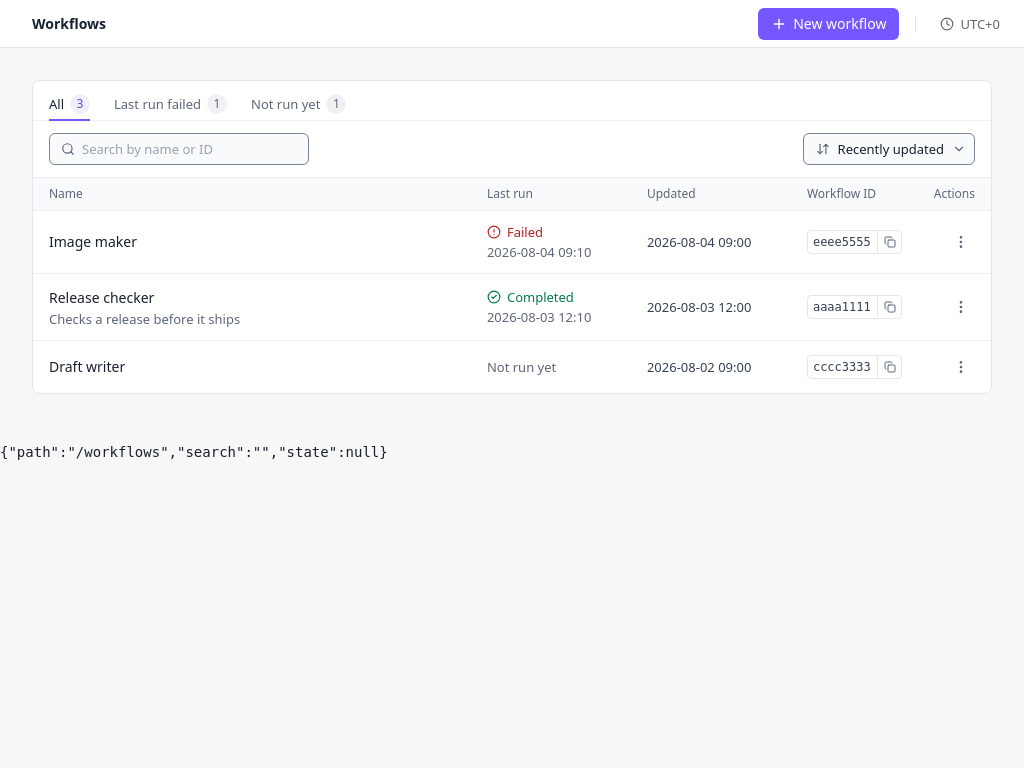
Test: WorkflowsPage row menu and Run dialog › says so when the workflow can’t be loaded for the run
Click the button named "Actions for Draft writer".
click(961, 366)  # box [947,352,975,380]
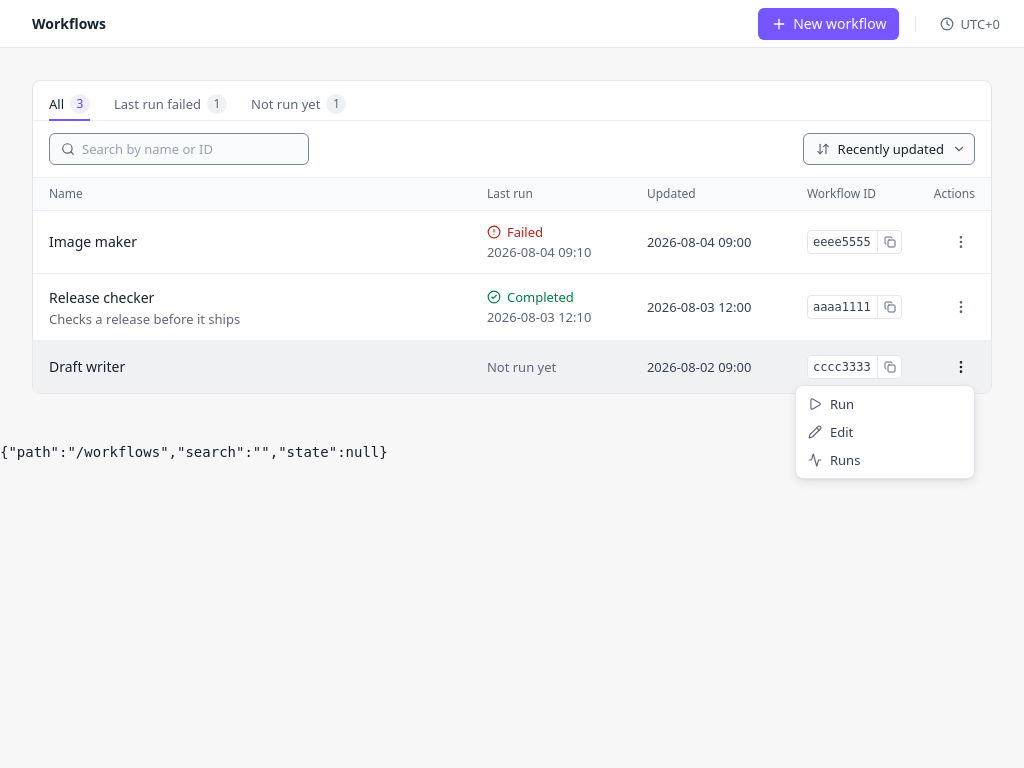
Click the menu item "Run".
click(831, 404)  # box [808,395,854,413]
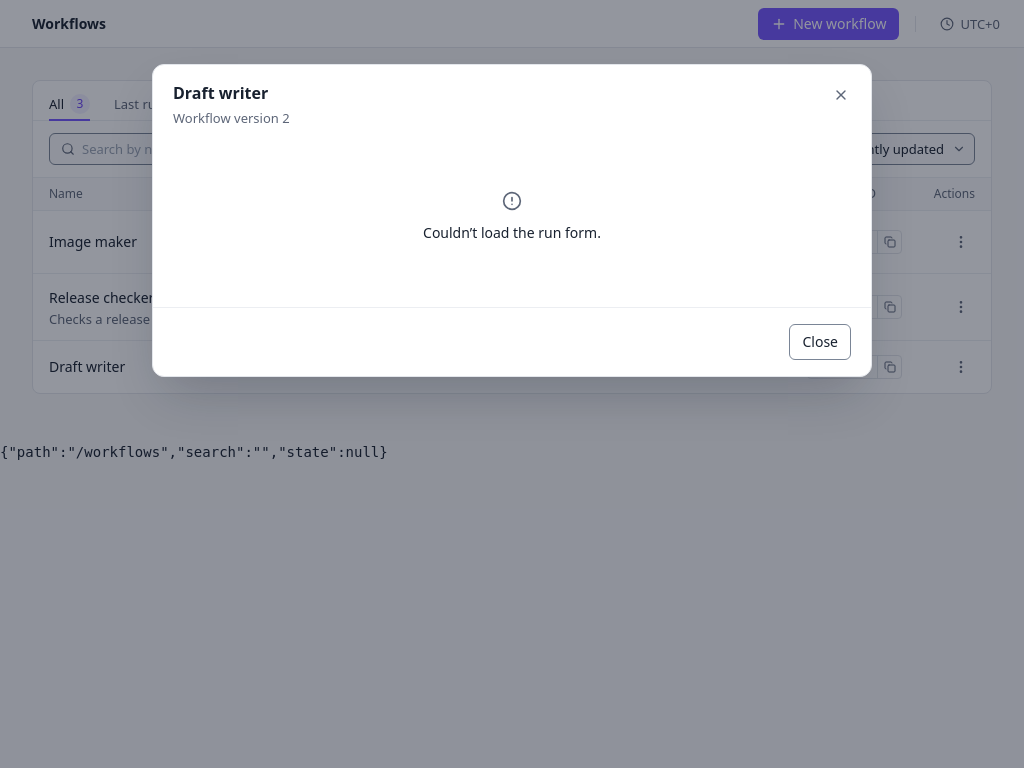
Check: the text "Couldn’t load the run form." is shown, box [423,223,601,243]
